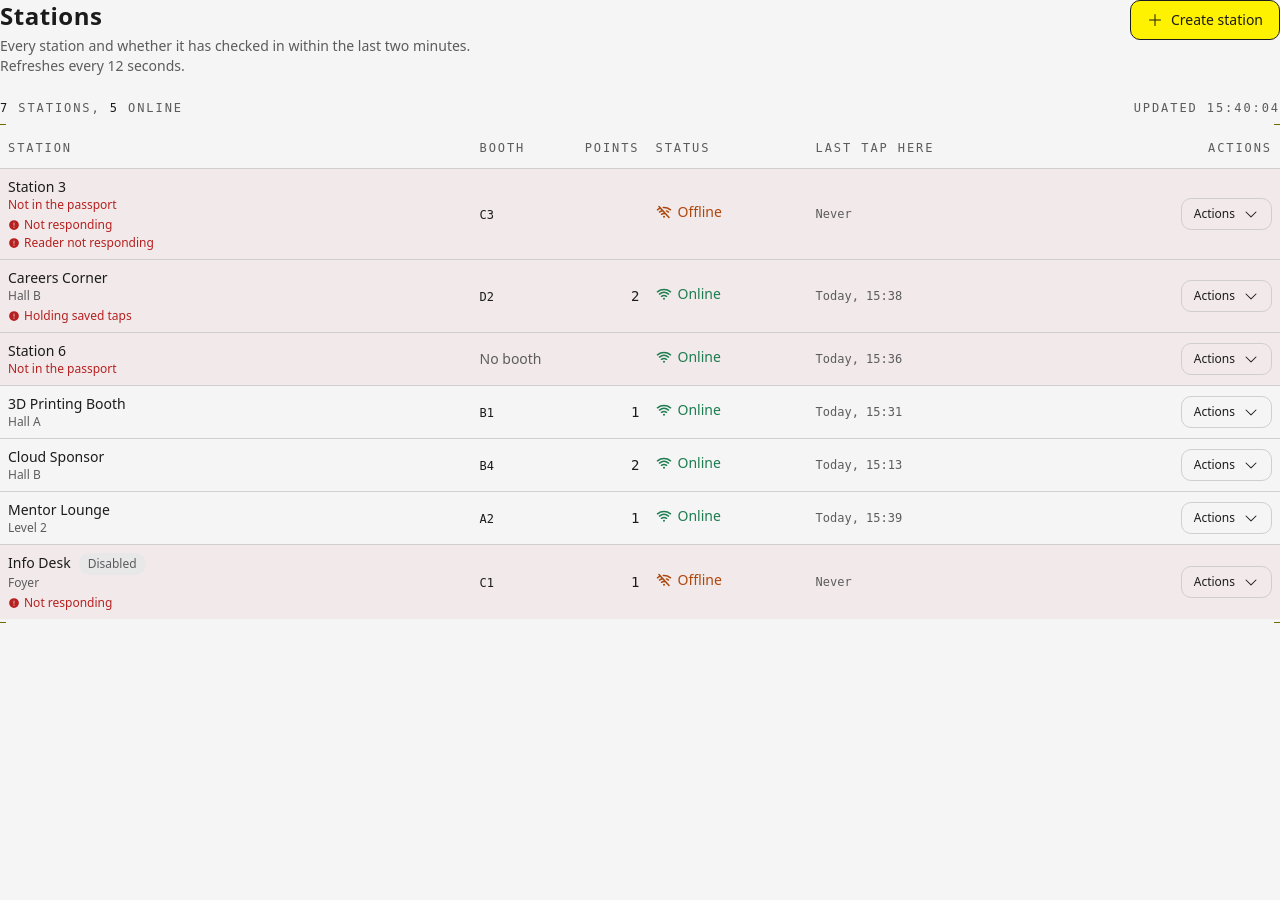
the booth on the station board (agreement 9.12) › shows the service's own issue under the field it names
Click the button "Actions" in the row of "3D Printing Booth" at (1226, 412), box x1=1181 y1=396 x2=1272 y2=428
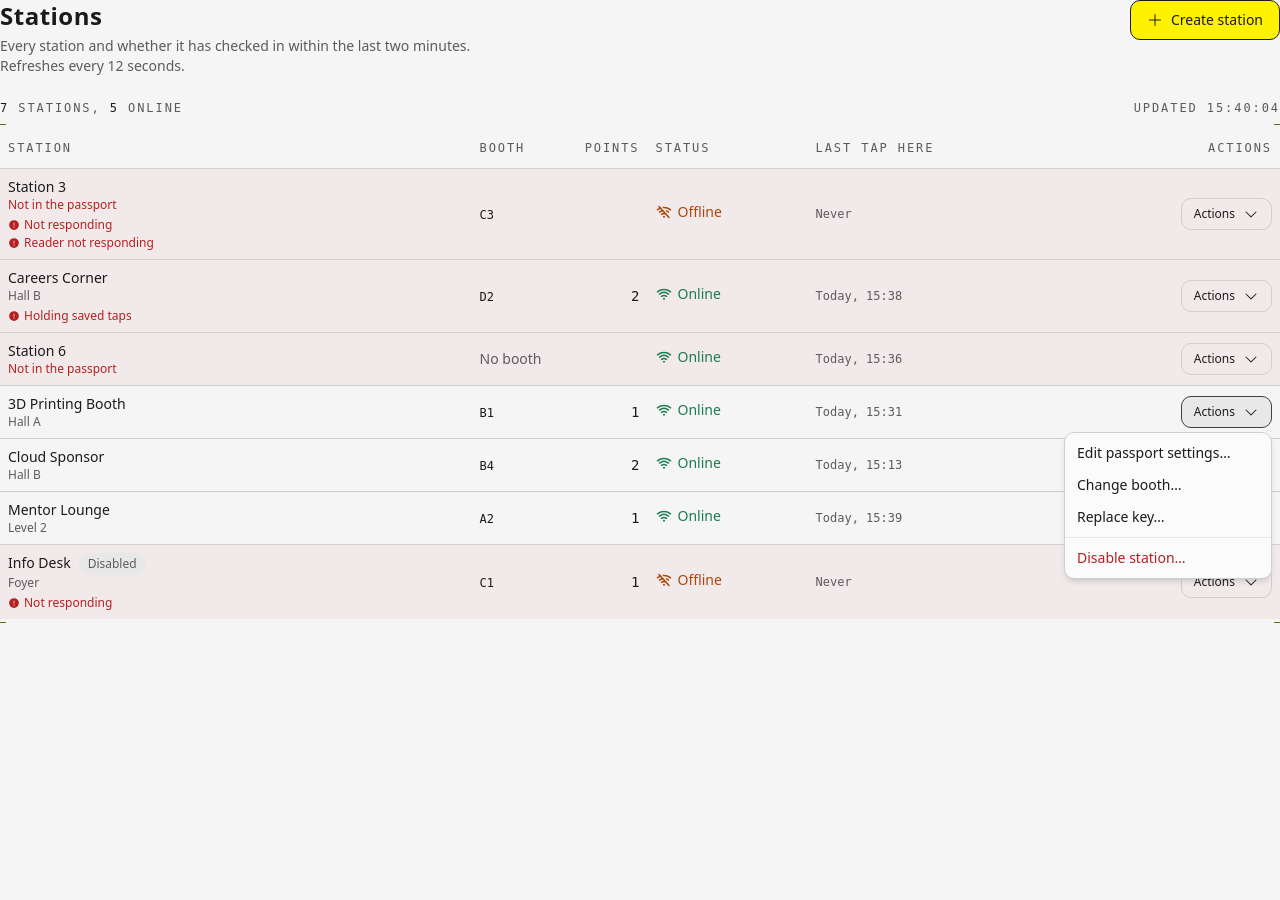
Now the menu is shown, box x1=1064 y1=432 x2=1272 y2=579
Click the menu item "Change booth…" at (1129, 484), box x1=1077 y1=475 x2=1182 y2=494
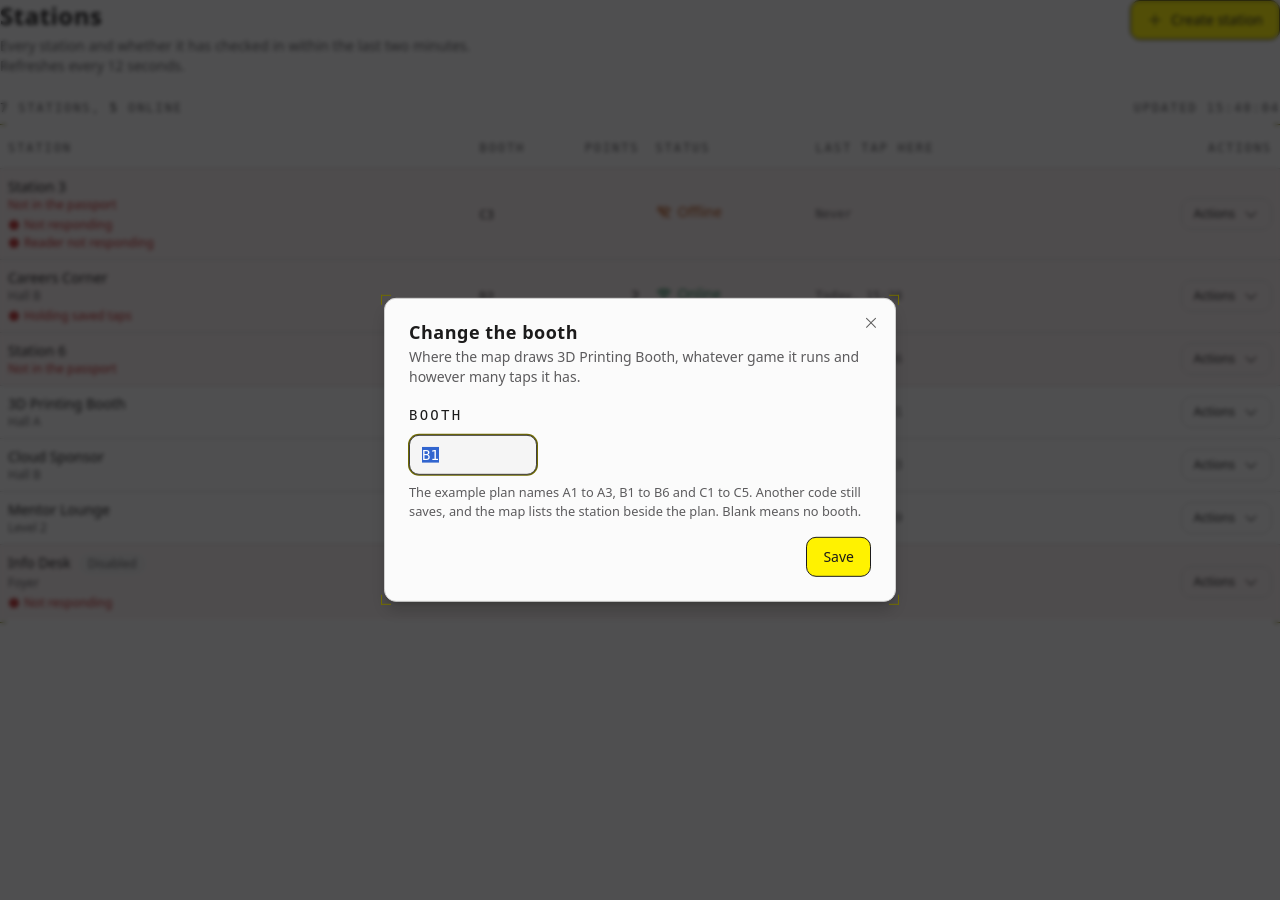
Click the button "Save" at (839, 557), box x1=806 y1=537 x2=871 y2=577
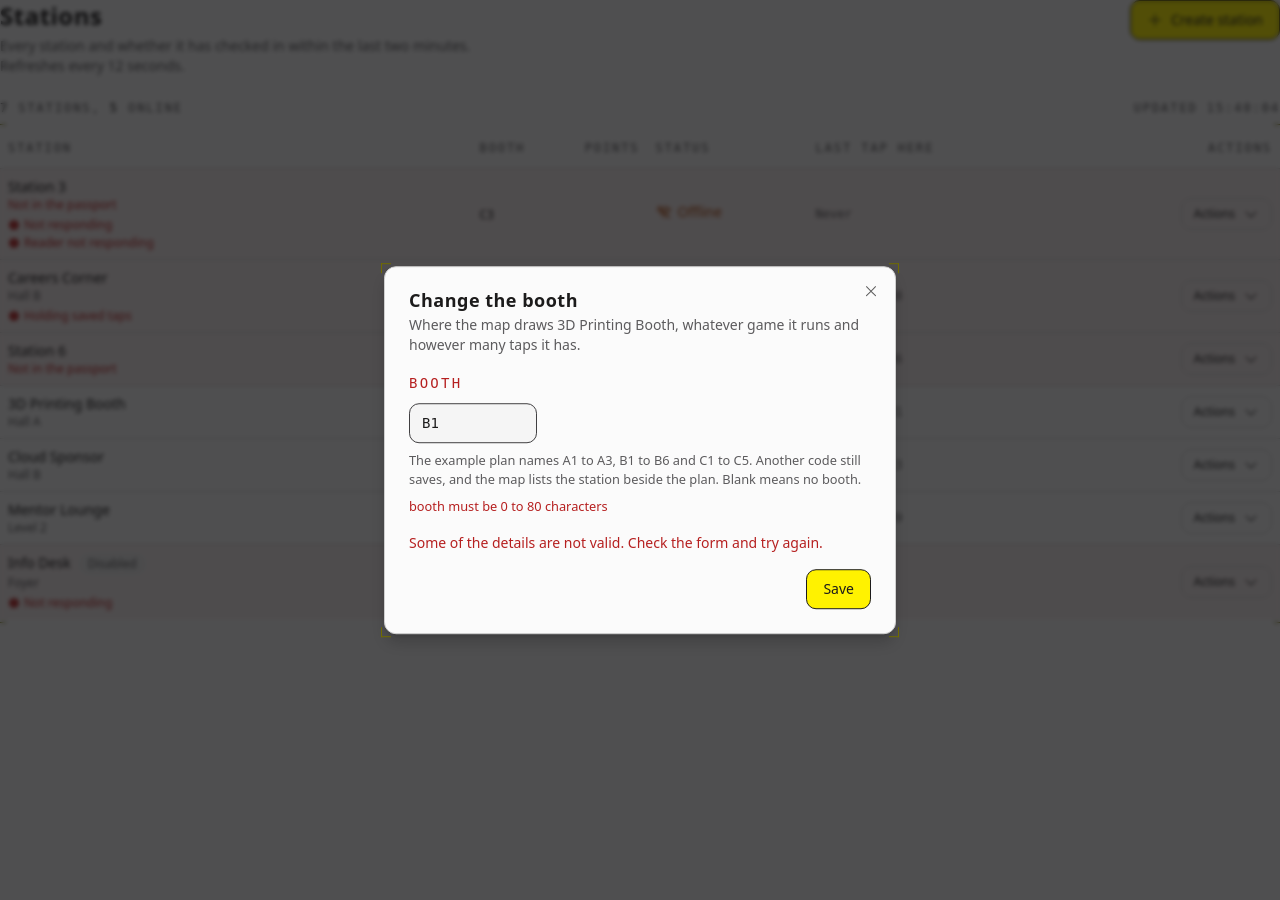
Now the text "booth must be 0 to 80 characters" is shown, box x1=409 y1=498 x2=608 y2=516
